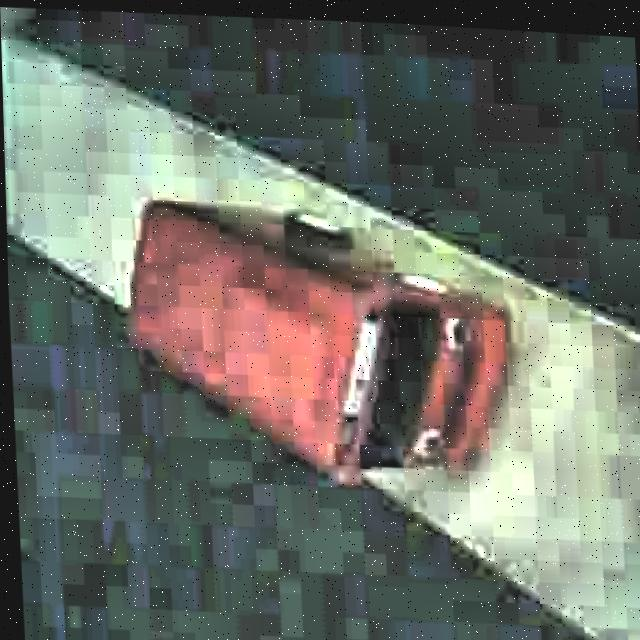bus: (118, 187, 519, 497)
